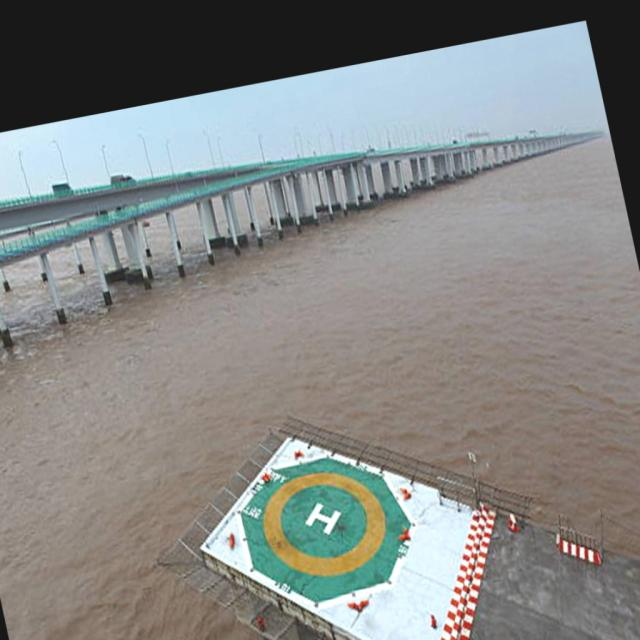helipad: (260, 468, 390, 580)
